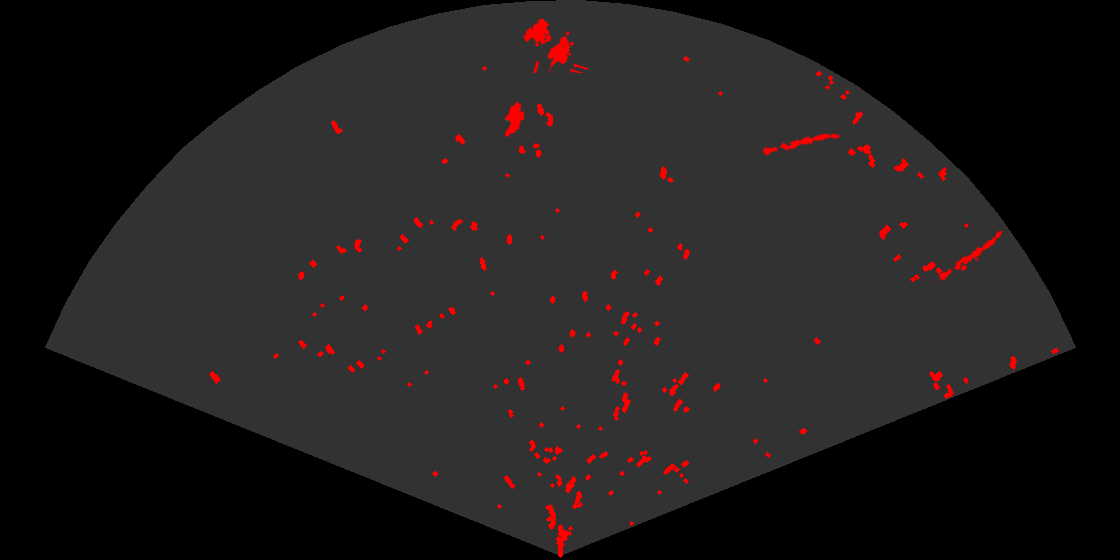AUV: (503, 100, 526, 139)
cage: (521, 17, 588, 73)
chain: (934, 229, 1004, 285), (758, 132, 842, 157)
